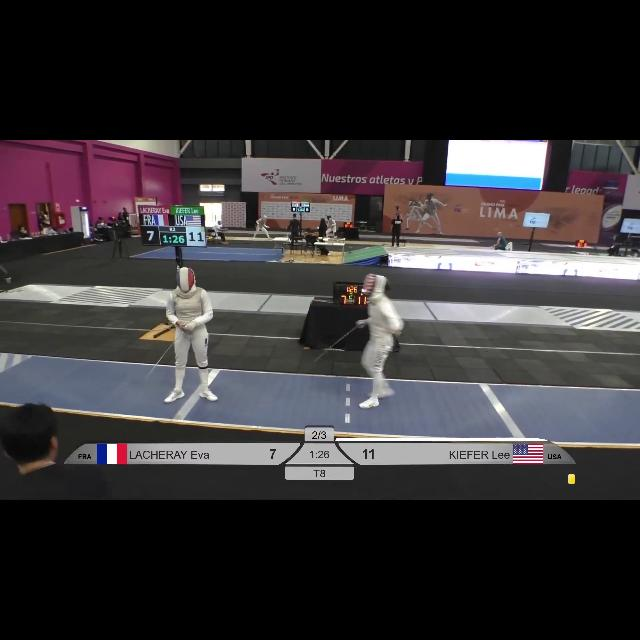blade: (143, 324, 193, 382), (307, 320, 363, 370)
